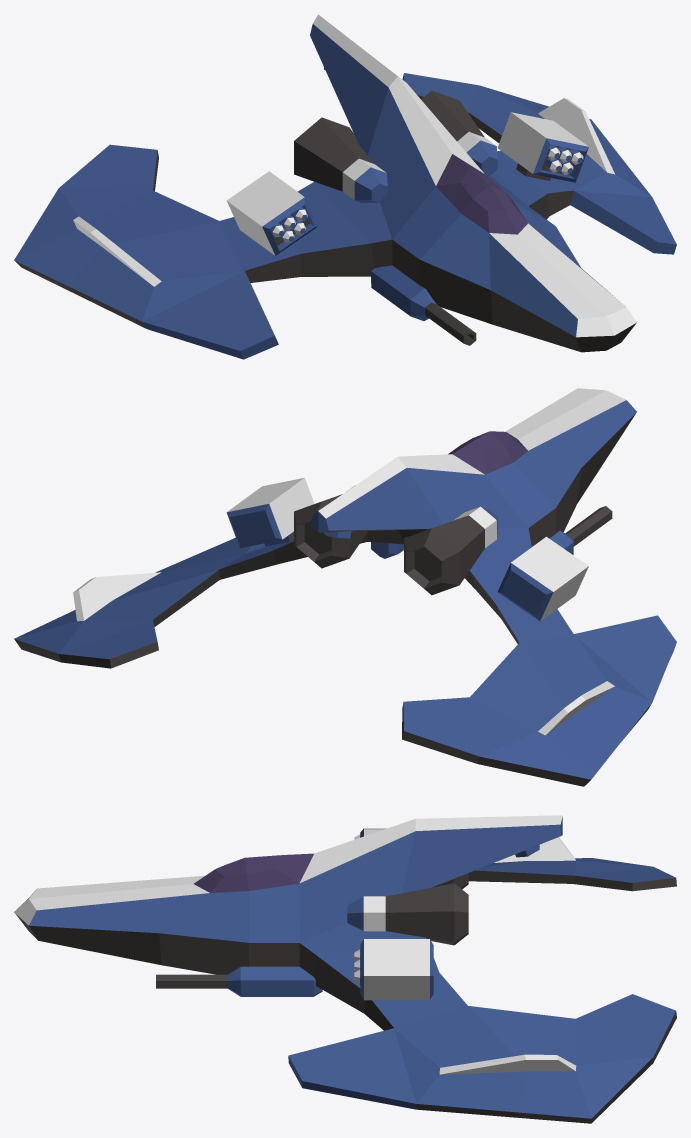
File: HyoiSpaceship.fbx
3 renders of one model, top to bottom at view 1: azimuth 30°, elevation 25°; view 2: azimuth 150°, elevation 25°; view 3: azimuth 270°, elevation 25°, orthographic. The views are drawn at different scales.
Parts seen in each view (by area): view 1: Cube; view 2: Cube; view 3: Cube.
Boxes of the visible parts, x1,y1,x2,y2 form: Cube: [14, 14, 676, 359]; Cube: [14, 388, 676, 786]; Cube: [14, 815, 676, 1123].
Bounding box in the file's own units: 847 × 275 × 910.
